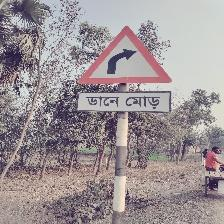Right-turn: (76, 26, 173, 116)
